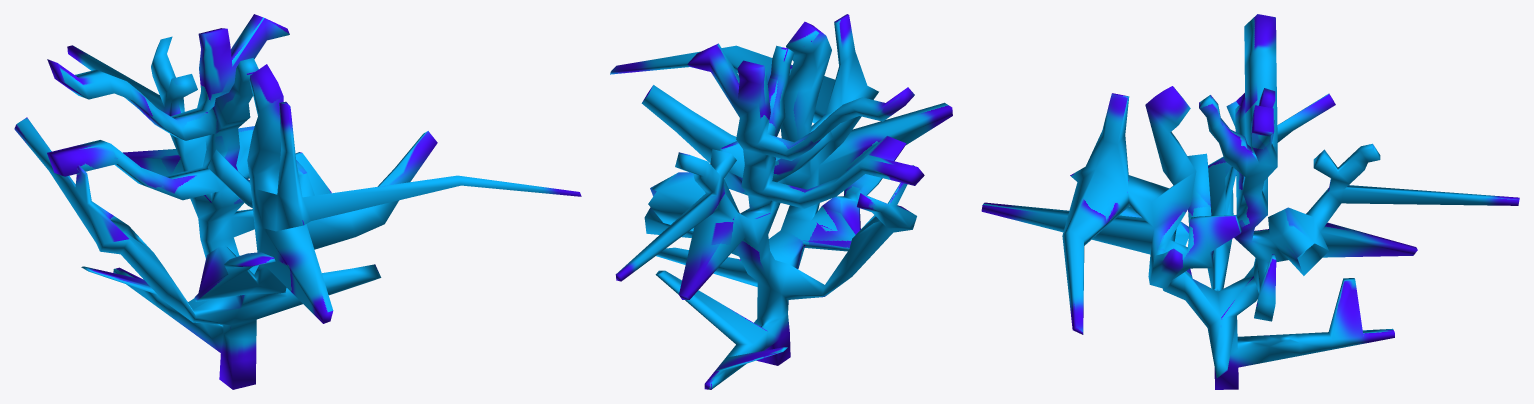
File: plante3.fbx
3 renders of one model, left to right at view 1: azimuth 30°, elevation 25°; view 2: azimuth 150°, elevation 25°; view 3: azimuth 270°, elevation 25°, orthographic. The views are drawn at different scales.
Visible parts, largest first — view 1: Cube.001; view 2: Cube.001; view 3: Cube.001.
Part boxes in pixels (x1,y1,x2,y2): Cube.001: [14, 14, 581, 389]; Cube.001: [610, 14, 952, 389]; Cube.001: [981, 14, 1519, 389].
Bounding box in the file's own units: 3193 × 2474 × 3996.
1 material, 1 textured.
